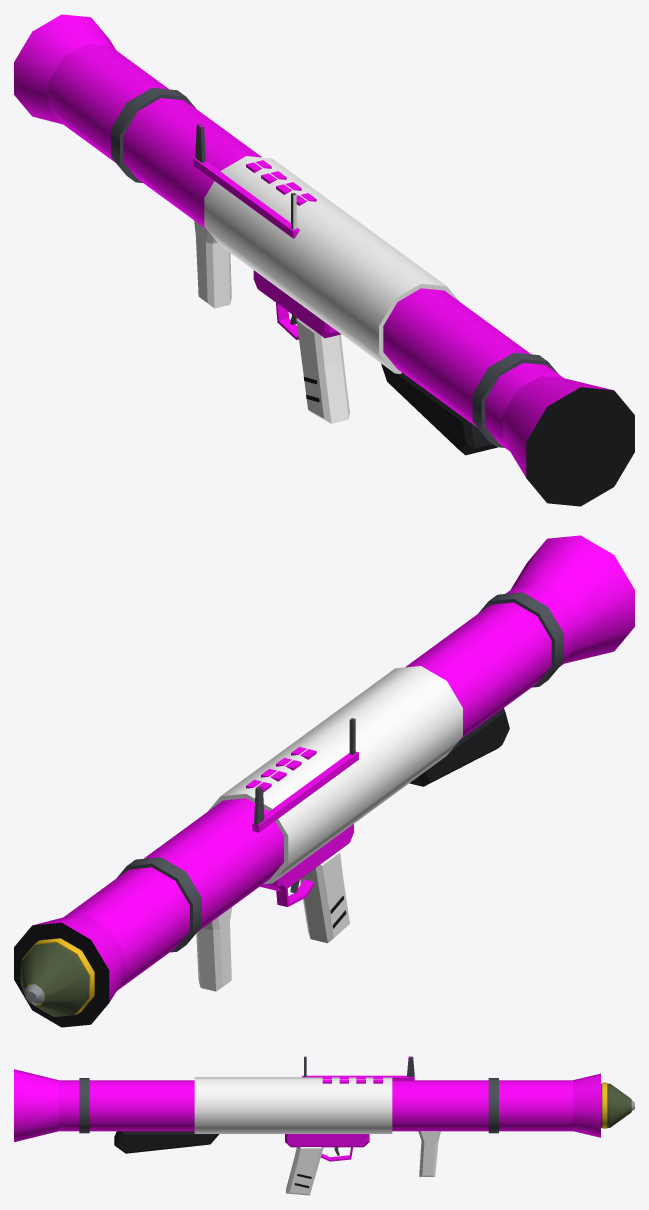
The model's file is launcher_rocket.glb.
The picture shows the model from 3 angles, top to bottom: view 1: azimuth 30°, elevation 25°; view 2: azimuth 150°, elevation 25°; view 3: azimuth 270°, elevation 25°; orthographic projection. The views are drawn at different scales.
Parts seen in each view (by area): view 1: launcher_rocket__body; view 2: launcher_rocket__body, launcher_rocket__rocket_loaded; view 3: launcher_rocket__body, launcher_rocket__rocket_loaded.
Boxes of the visible parts, x1,y1,x2,y2 form: launcher_rocket__body: (14, 14, 634, 506); launcher_rocket__body: (14, 535, 634, 1027); launcher_rocket__rocket_loaded: (20, 938, 94, 1016); launcher_rocket__body: (14, 1056, 600, 1195); launcher_rocket__rocket_loaded: (601, 1082, 634, 1128).
Bounding box in the file's own units: 0.1255 × 0.2505 × 1.1.
Materials: 1 (1 with a texture image).
